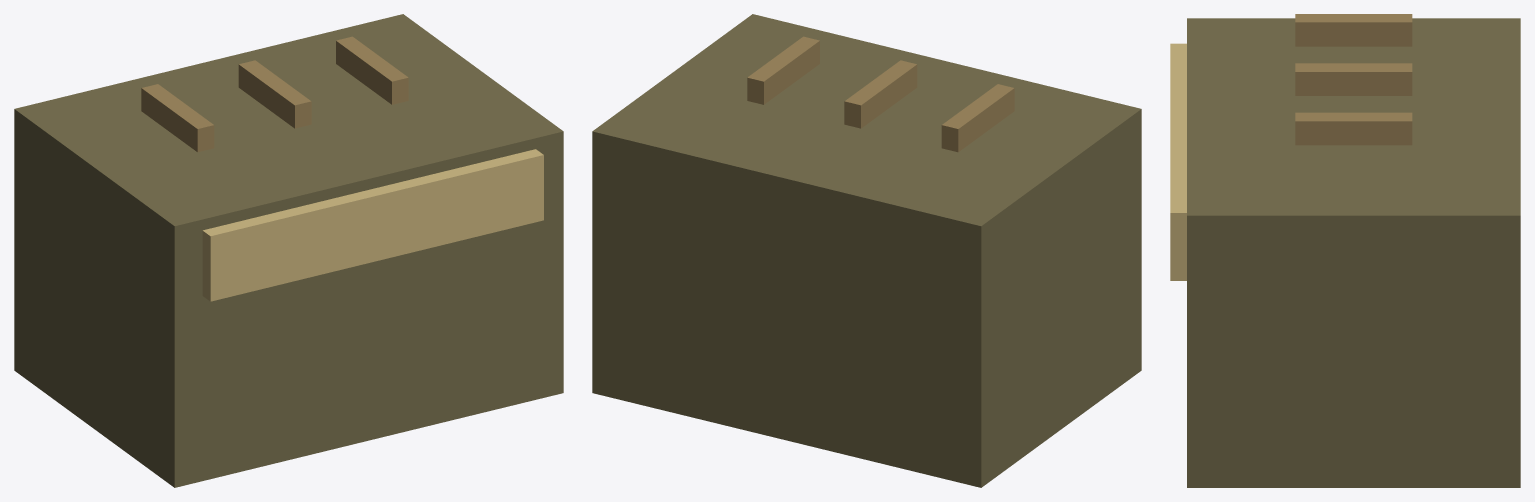
Rendered from ammo.glb.
3 renders of one model, left to right at view 1: azimuth 30°, elevation 25°; view 2: azimuth 150°, elevation 25°; view 3: azimuth 270°, elevation 25°, orthographic. The views are drawn at different scales.
Parts seen in each view (by area): view 1: scattered ammunition box, ammunition package stripe, visible brass cartridge, _MeshInstance3D_12347, _MeshInstance3D_12348; view 2: scattered ammunition box, visible brass cartridge, _MeshInstance3D_12347, _MeshInstance3D_12348; view 3: scattered ammunition box, ammunition package stripe, _MeshInstance3D_12348, visible brass cartridge, _MeshInstance3D_12347.
Boxes of the visible parts, x1,y1,x2,y2 form: scattered ammunition box: (14, 14, 563, 487); ammunition package stripe: (202, 149, 543, 301); visible brass cartridge: (141, 84, 214, 152); _MeshInstance3D_12347: (238, 60, 311, 128); _MeshInstance3D_12348: (336, 36, 408, 104); scattered ammunition box: (592, 14, 1141, 487); visible brass cartridge: (941, 84, 1014, 152); _MeshInstance3D_12347: (844, 60, 917, 128); _MeshInstance3D_12348: (747, 36, 819, 104); scattered ammunition box: (1187, 18, 1520, 487); ammunition package stripe: (1170, 43, 1186, 280); _MeshInstance3D_12348: (1295, 112, 1412, 145); visible brass cartridge: (1295, 14, 1412, 46); _MeshInstance3D_12347: (1295, 63, 1412, 95).
Bounding box in the file's own units: 0.28 × 0.208 × 0.21.
